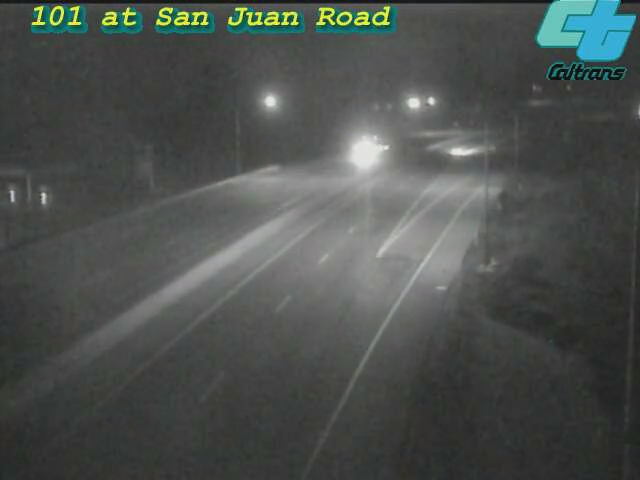vehicle: (339, 125, 389, 175), (429, 128, 479, 178)
